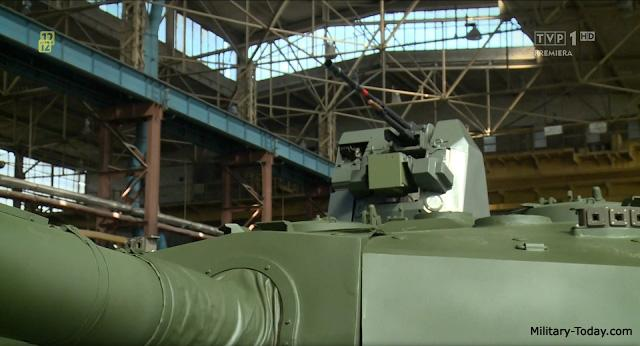tank: (190, 124, 640, 342)
